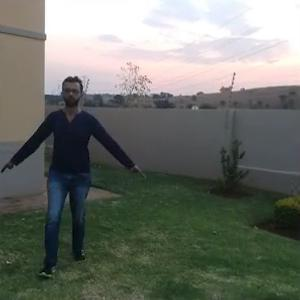land: (7, 72, 142, 263)
